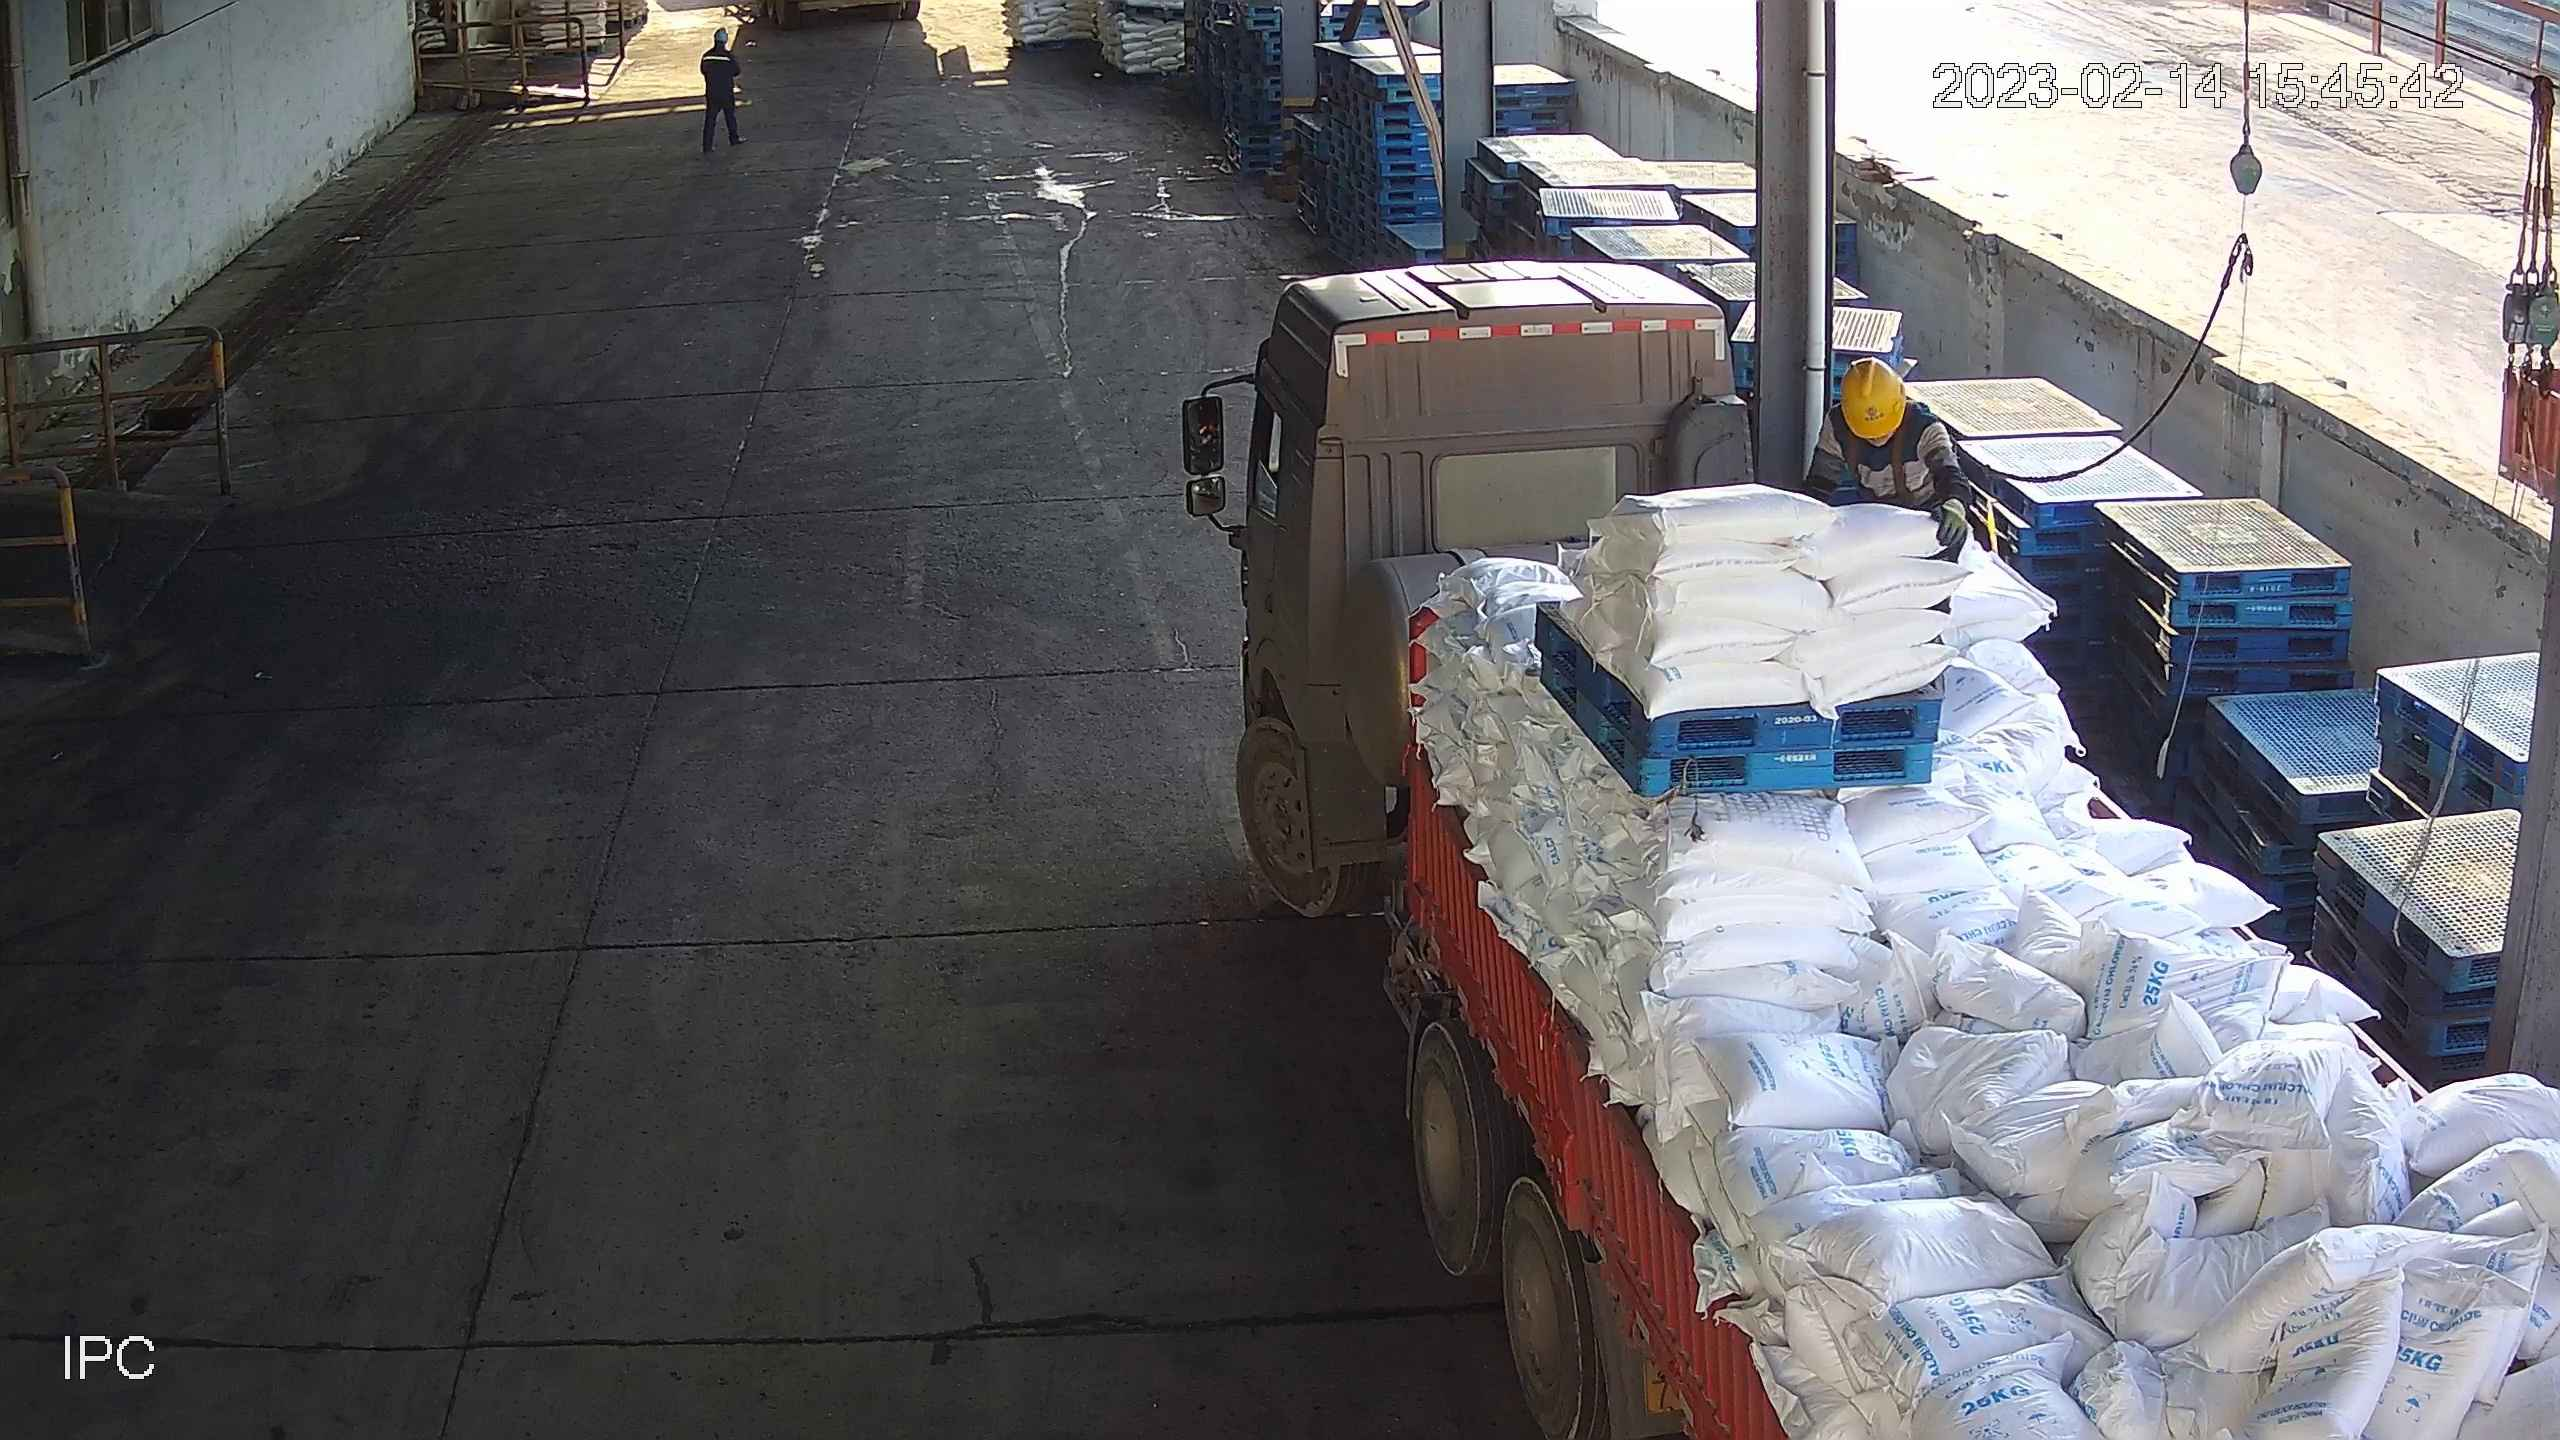belt: (1848, 441, 1920, 508)
head: (1816, 355, 1941, 460)
helmet: (1837, 355, 1911, 436)
truck: (1172, 258, 2560, 1440)
